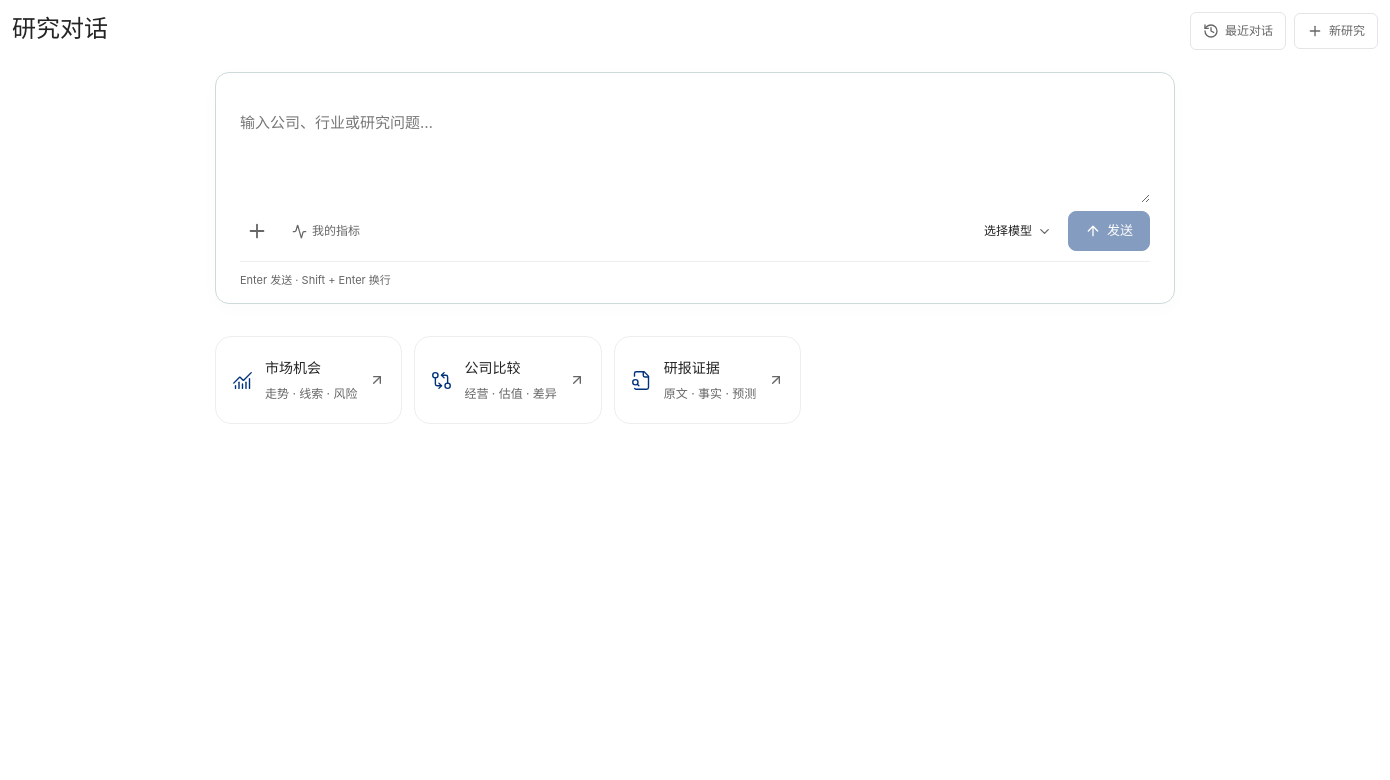
Test: replays an accepted research message after a lost response with original revisions and no duplicate UI message
The image size is (1390, 780).
In the text box named "研究要求": (695, 148) [240,93,1150,203], type "原始首次问题"
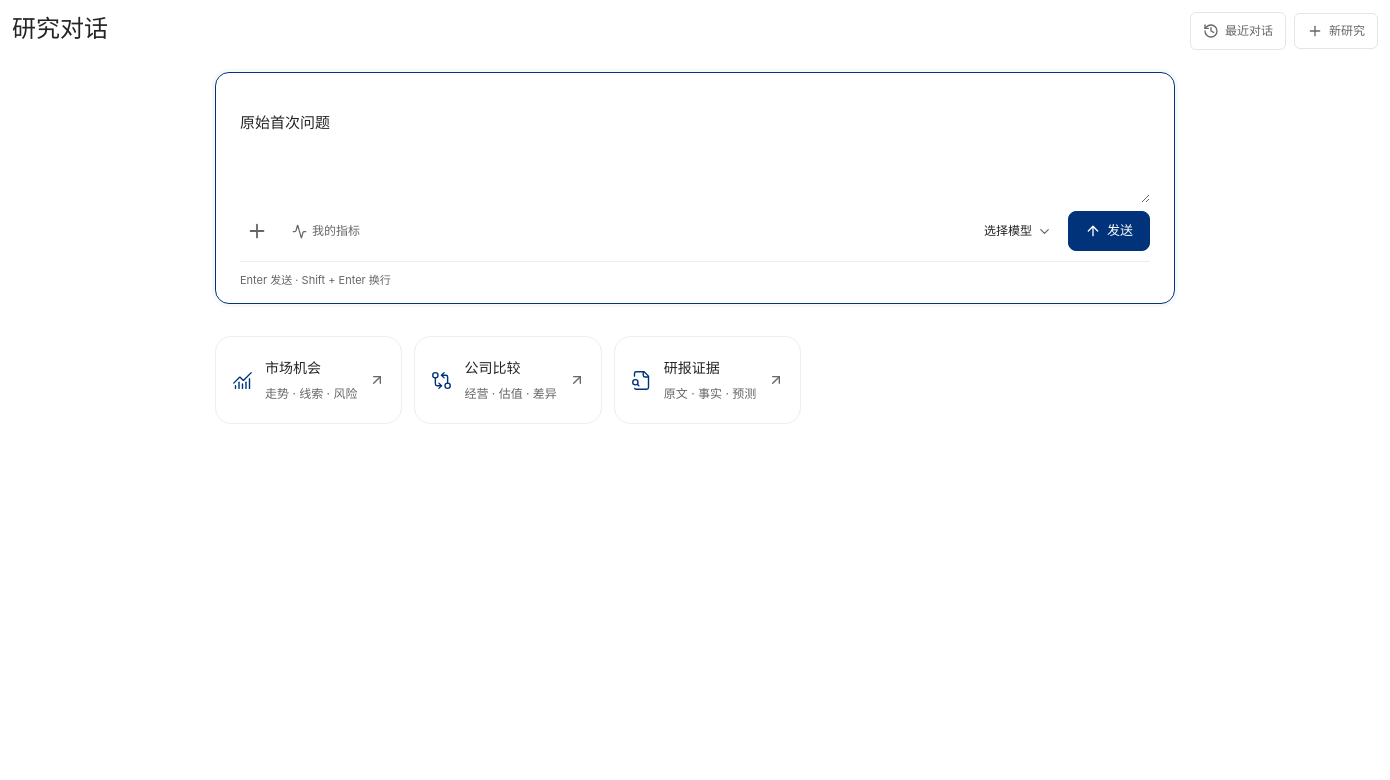
Click the button "发送": (1109, 231) [1068,211,1150,251]
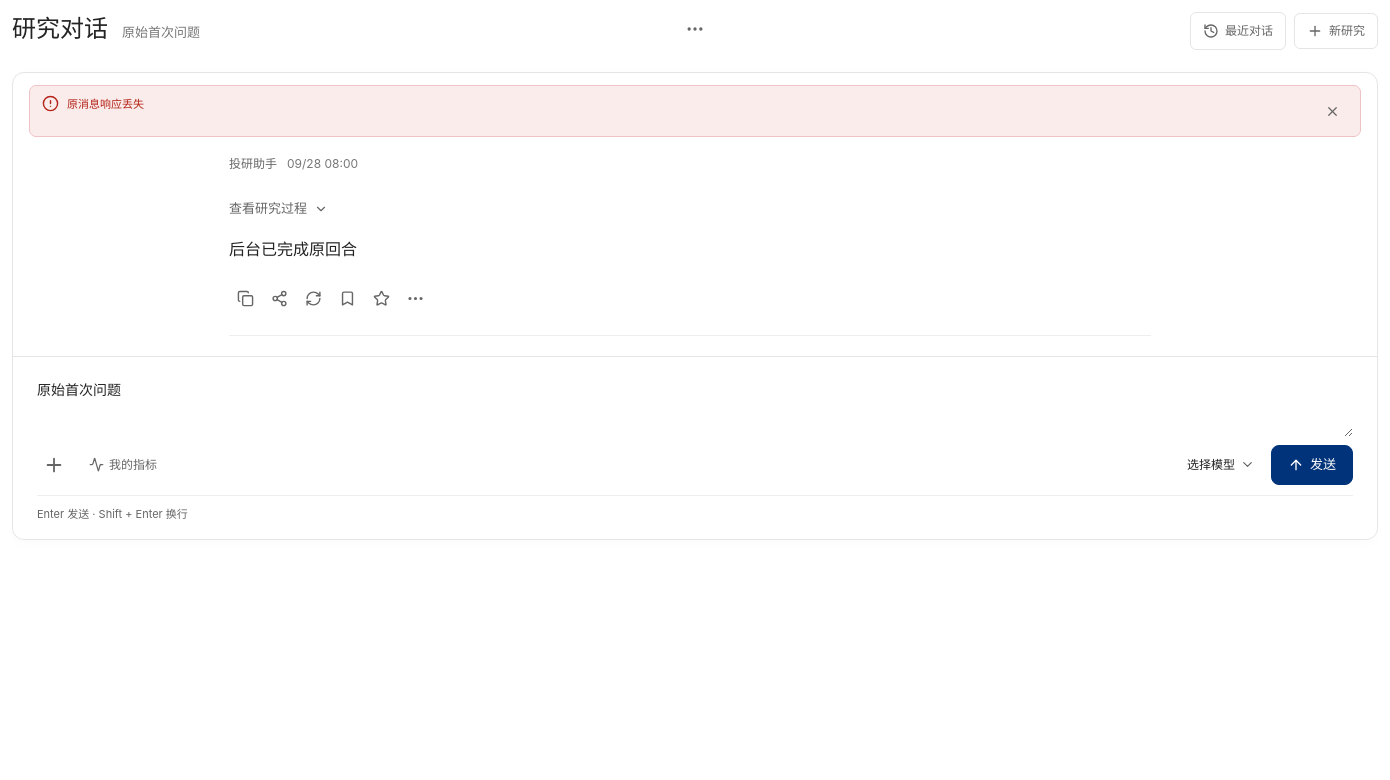
Expected: the text box named "研究要求" is enabled, [37,373,1353,437]
Expected: the text "原消息响应丢失" is shown, [67,97,144,111]
Expected: the text "后台已完成原回合" is shown, [229,239,357,259]
Click the button "发送": (1312, 465) [1271,445,1353,485]
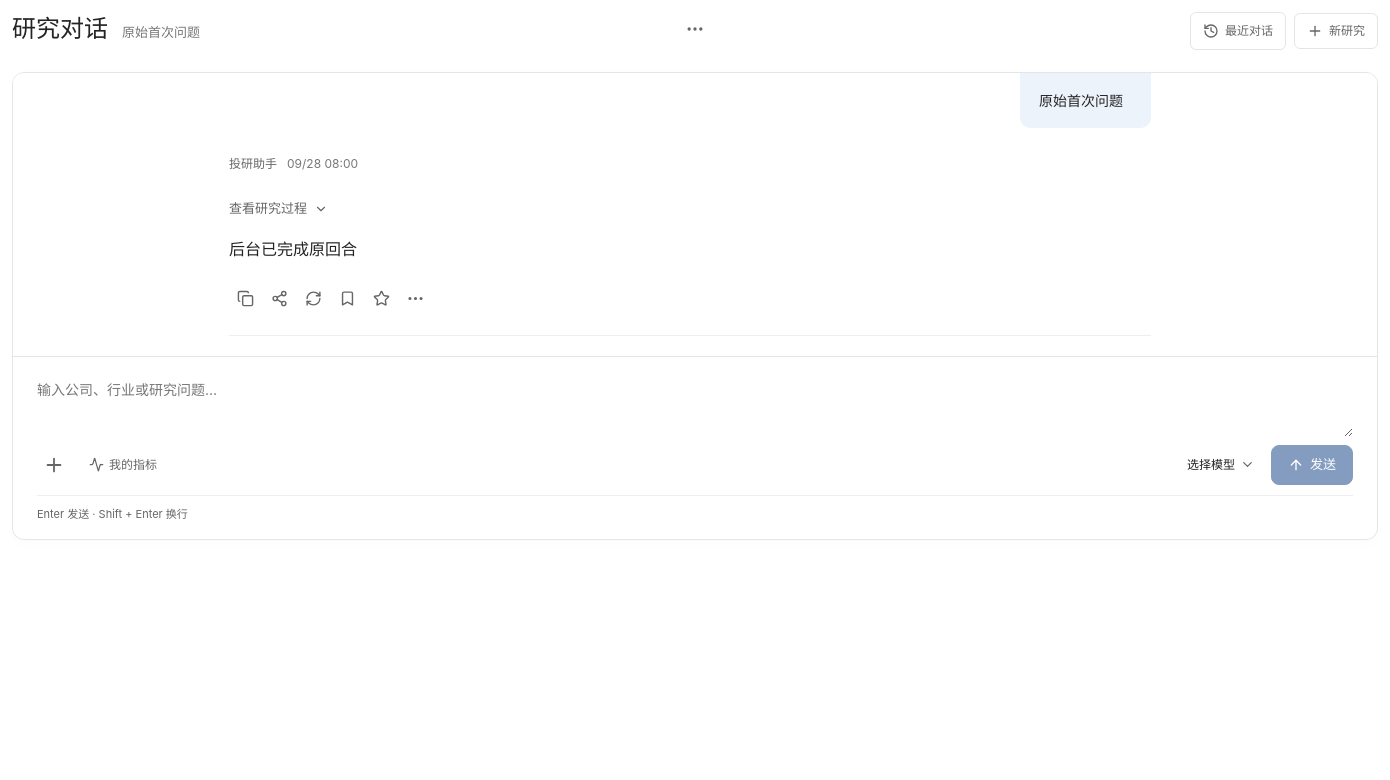
Expected: the text box named "研究要求" is empty, [37,373,1353,437]
Expected: the number of elements with class "user" is 1, [1020,73,1151,128]
